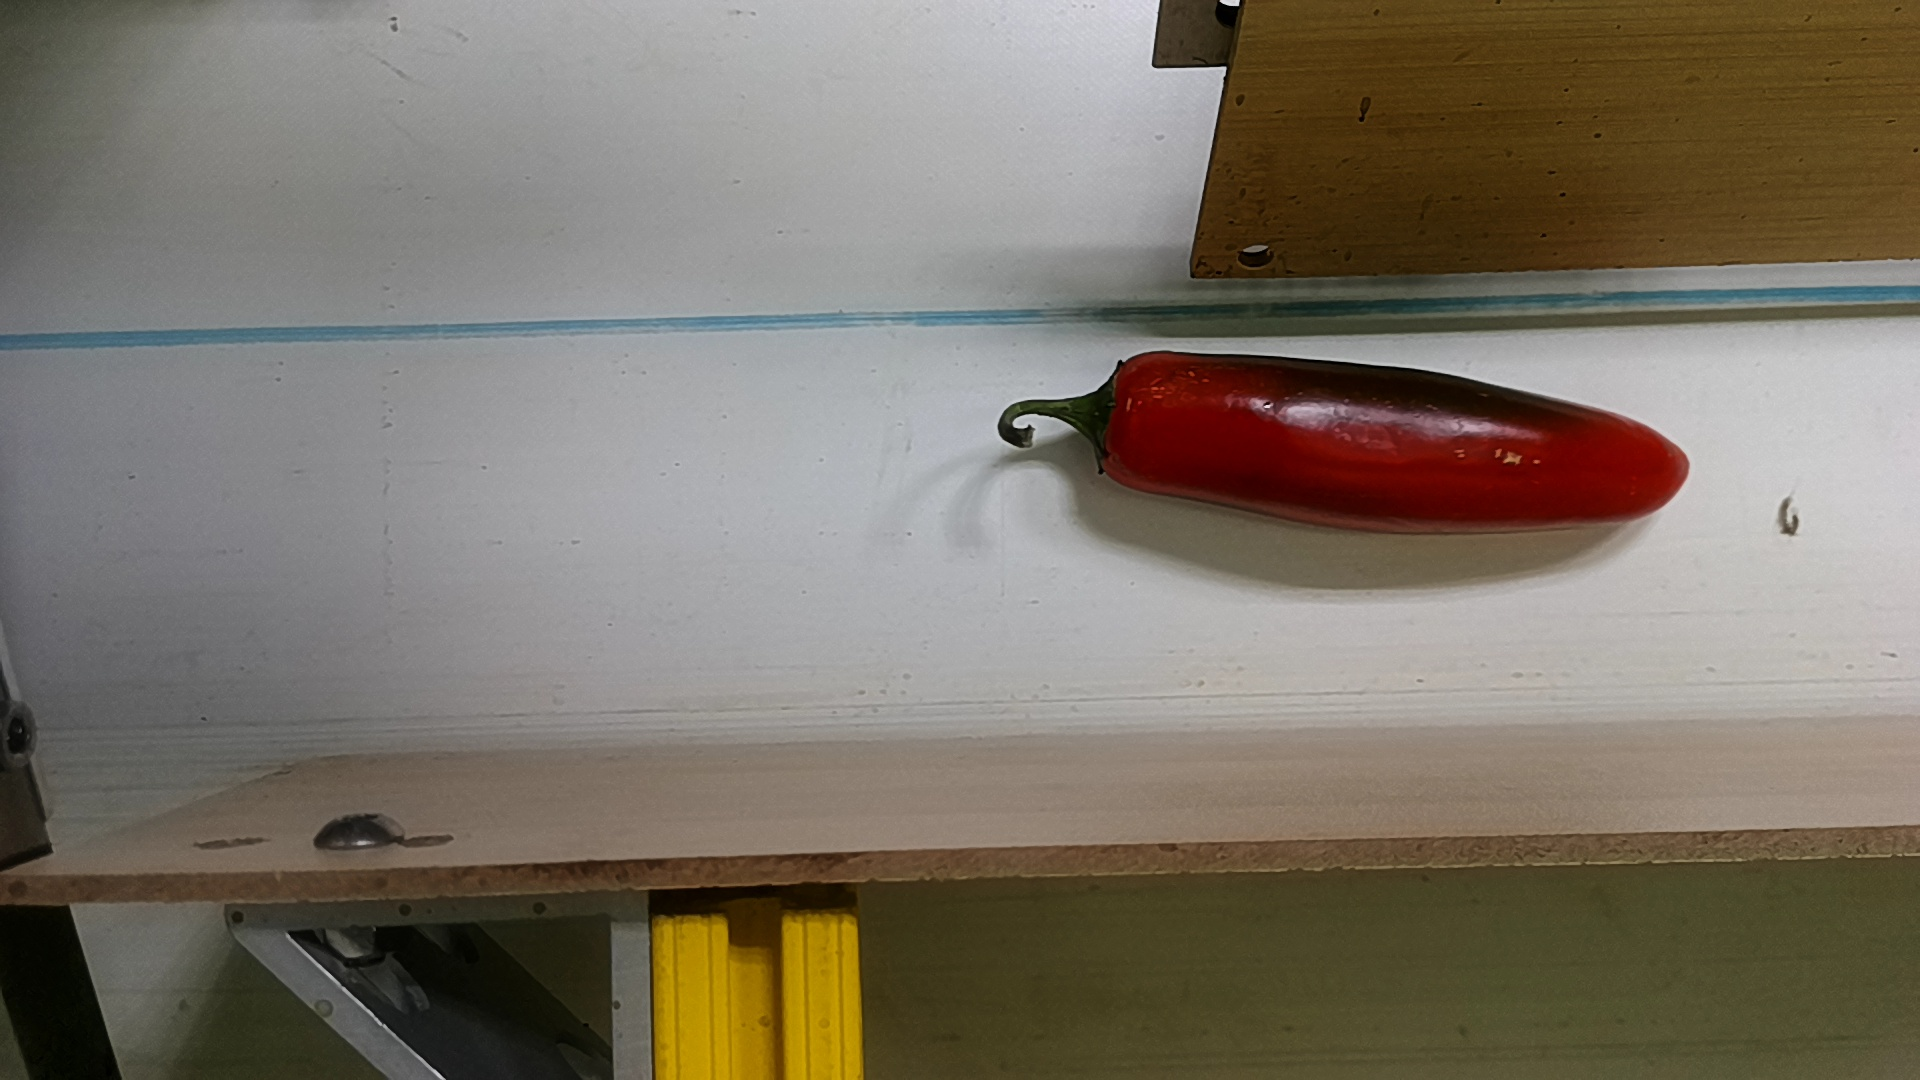Cut Point: (1079, 344, 1156, 498)
